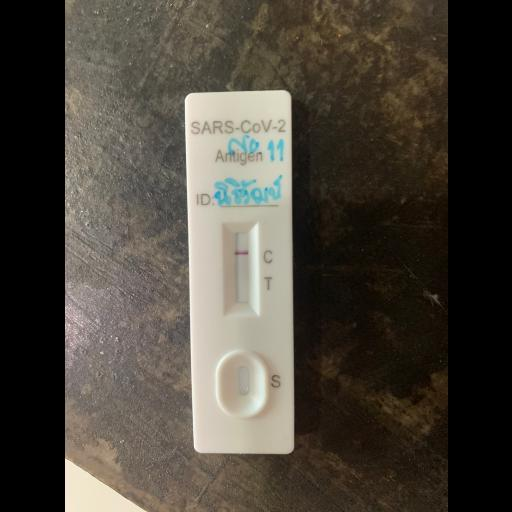Neg: (182, 90, 292, 454)
